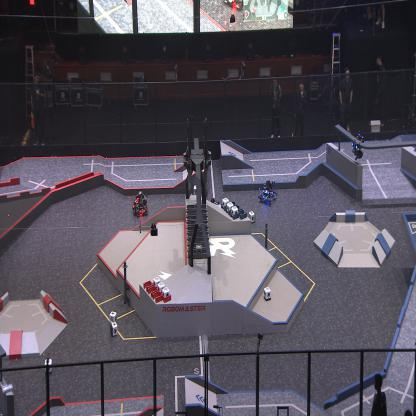car: (258, 179, 277, 204), (131, 190, 148, 217), (277, 179, 280, 182)
